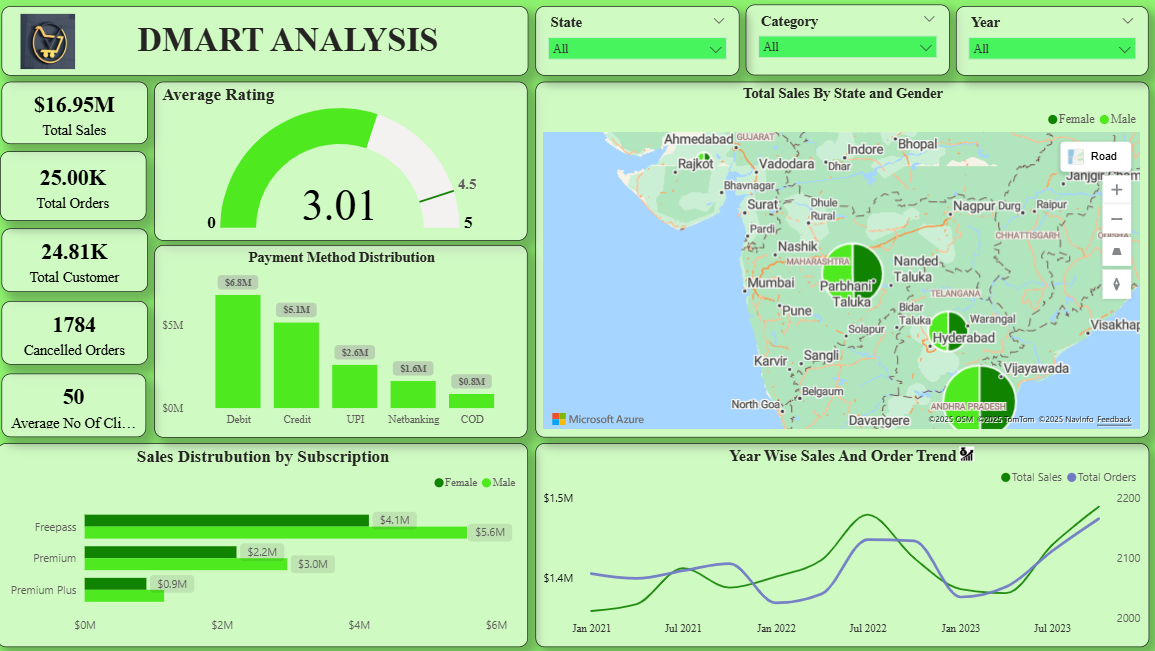

The dashboard page shown, as its layout file describes it:
{"tool":"powerbi","page":{"name":"Dash 2","canvas":[1280,720],"ordinal":0},"visuals":[{"type":"textbox","box":[4.8,6.4,580.4,76.5],"z":0},{"type":"image","box":[12.7,9.5,85.4,71.2],"z":1000},{"type":"card","fields":{"Values":["Measures Table.Total Sales"]},"box":[4.8,89.3,161,68.6],"z":2000},{"type":"card","fields":{"Values":["Measures Table.Total Customer"]},"box":[4.8,251.9,161,70.2],"z":3000},{"type":"card","fields":{"Values":["Measures Table.Total Orders"]},"box":[3.2,167.4,161,76.5],"z":4000},{"type":"card","fields":{"Values":["Measures Table.Total Cancelled Orders"]},"box":[4.8,331.6,161,70.2],"z":5000},{"type":"gauge","title":"Average Rating","fields":{"Y":["Avg(Dmart.Rating)"],"MinValue":["Measures Table.Min Rating"],"MaxValue":["Measures Table.Max Rating"],"TargetValue":["Measures Table.Target Value"]},"box":[173.8,89.3,411.4,175.4],"z":6000},{"type":"lineChart","title":"Year Wise Sales And Order Trend","fields":{"Y":["Measures Table.Total Sales"],"Y2":["Measures Table.Total Orders"],"Category":["Calender.Date.Variation.Date Hierarchy.Year","Calender.Date.Variation.Date Hierarchy.Quarter","Calender.Date.Variation.Date Hierarchy.Month"]},"box":[593.1,487.9,676,224.8],"z":7000},{"type":"clusteredBarChart","title":"Sales Distrubution by Subscription","fields":{"Category":["Customers.Subscription"],"Y":["Measures Table.Total Sales"],"Series":["Customers.Gender"]},"box":[0,487.9,585.2,224.8],"z":8000},{"type":"lineStackedColumnComboChart","title":"Payment Method Distribution","fields":{"Y":["Measures Table.Total Sales"],"Category":["Dmart.Payment Method"]},"box":[173.8,269.5,411.4,212.1],"z":9000},{"type":"azureMap","title":"Total Sales By State and Gender","fields":{"Category":["Customers.State","Customers.City"],"Series":["Customers.Gender"],"Size":["Measures Table.Average Time Spent"]},"box":[593.1,89.3,676,392.2],"z":10000},{"type":"slicer","fields":{"Values":["Products.Category"]},"box":[824.3,4.8,224.8,78.1],"z":11000},{"type":"slicer","fields":{"Values":["Customers.State"]},"box":[593.1,6.4,224.8,76.5],"z":12000},{"type":"slicer","fields":{"Values":["Calender.Date.Variation.Date Hierarchy.Year","Calender.Date.Variation.Date Hierarchy.Quarter","Calender.Date.Variation.Date Hierarchy.Month"]},"box":[1057.1,6.4,212.1,76.5],"z":13000},{"type":"card","fields":{"Values":["Measures Table.Average No Of Clicks"]},"box":[4.8,411.4,159.4,70.2],"z":14000},{"type":"image","box":[1054.4,487.4,27.5,26.9],"z":15000}]}

Visuals, with their boxes in screenshot pixels (x1, y1, x2, y2), scaled from the page's 1280x720 canvas onto the 1155x651 screenshot:
textbox: <bbox>4, 6, 528, 75</bbox>
image: <bbox>11, 9, 89, 73</bbox>
card - Measures Table.Total Sales: <bbox>4, 81, 150, 143</bbox>
card - Measures Table.Total Customer: <bbox>4, 228, 150, 291</bbox>
card - Measures Table.Total Orders: <bbox>3, 151, 148, 221</bbox>
card - Measures Table.Total Cancelled Orders: <bbox>4, 300, 150, 363</bbox>
"Average Rating" gauge: <bbox>157, 81, 528, 239</bbox>
"Year Wise Sales And Order Trend" lineChart: <bbox>535, 441, 1145, 644</bbox>
"Sales Distrubution by Subscription" clusteredBarChart: <bbox>0, 441, 528, 644</bbox>
"Payment Method Distribution" lineStackedColumnComboChart: <bbox>157, 244, 528, 435</bbox>
"Total Sales By State and Gender" azureMap: <bbox>535, 81, 1145, 435</bbox>
slicer - Products.Category: <bbox>744, 4, 947, 75</bbox>
slicer - Customers.State: <bbox>535, 6, 738, 75</bbox>
slicer - Calender.Date.Variation.Date Hierarchy.Year x Calender.Date.Variation.Date Hierarchy.Quarter: <bbox>954, 6, 1145, 75</bbox>
card - Measures Table.Average No Of Clicks: <bbox>4, 372, 148, 435</bbox>
image: <bbox>951, 441, 976, 465</bbox>
